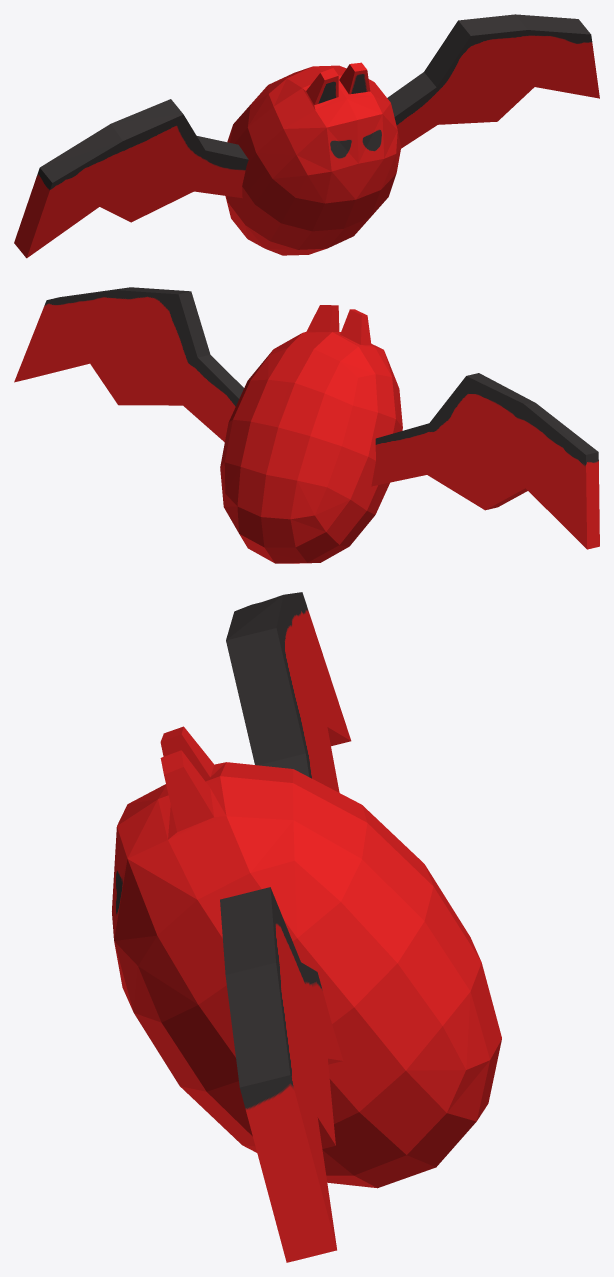
Rendered from batEnemy.obj.
The picture shows the model from 3 angles, top to bottom: view 1: azimuth 30°, elevation 25°; view 2: azimuth 150°, elevation 25°; view 3: azimuth 270°, elevation 25°; orthographic projection. The views are drawn at different scales.
Parts seen in each view (by area): view 1: batRightHand; view 2: batRightHand; view 3: batRightHand.
Boxes of the visible parts, x1,y1,x2,y2 form: batRightHand: (14, 14, 599, 258); batRightHand: (14, 287, 599, 563); batRightHand: (112, 592, 501, 1262).
Bounding box in the file's own units: 4.03 × 1.46 × 1.19.
